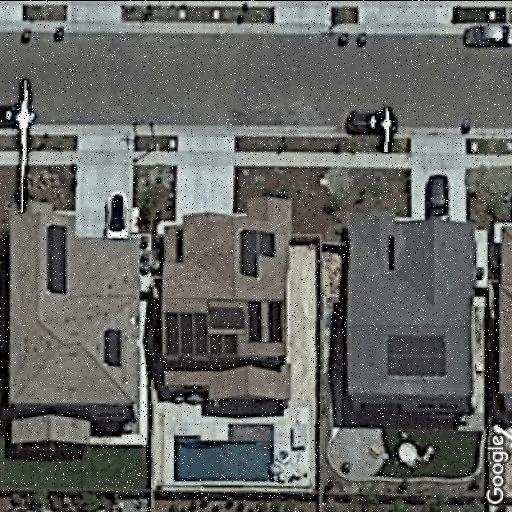solar-panel: (164, 304, 246, 356), (384, 331, 448, 377), (238, 230, 278, 278), (244, 298, 284, 344), (45, 220, 67, 296), (102, 326, 124, 368)
